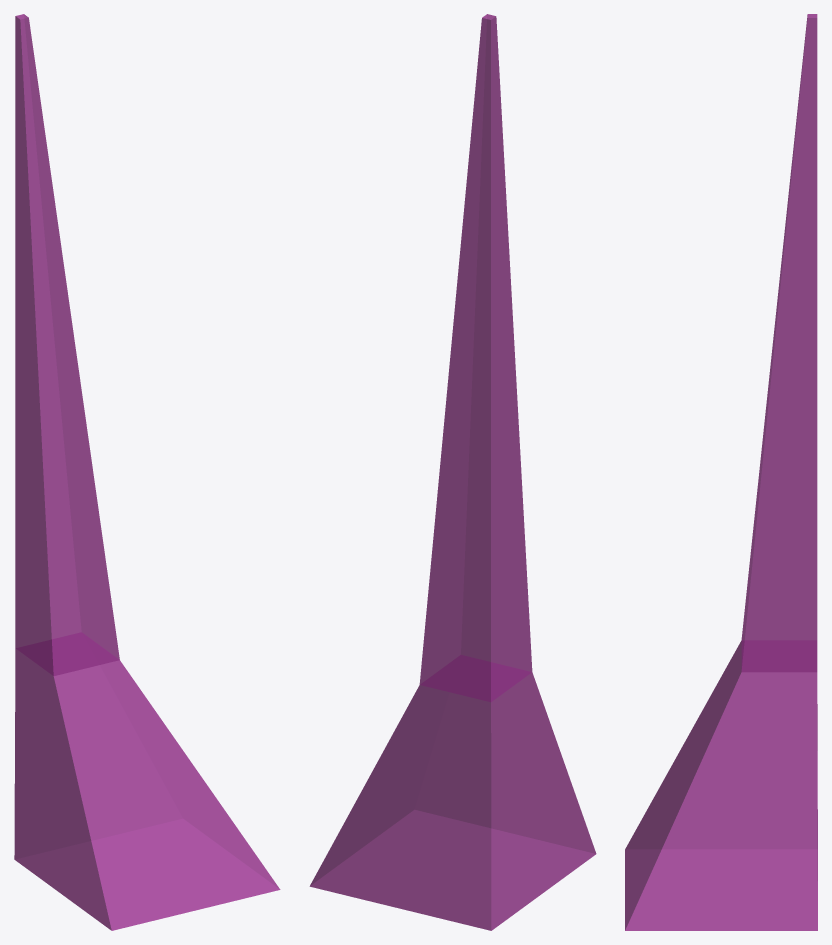
The model's file is SM_Bld_Wall_Fort_L_Corner_02_Collision.fbx.
3 views of the same model, side by side, from view 1: azimuth 30°, elevation 25°; view 2: azimuth 150°, elevation 25°; view 3: azimuth 270°, elevation 25° (orthographic). The views are drawn at different scales.
Visible parts, largest first — view 1: SM_Bld_Wall_Fort_L_Corner_02_Collision; view 2: SM_Bld_Wall_Fort_L_Corner_02_Collision; view 3: SM_Bld_Wall_Fort_L_Corner_02_Collision.
Boxes of the visible parts, x1,y1,x2,y2 form: SM_Bld_Wall_Fort_L_Corner_02_Collision: (14,14,280,930); SM_Bld_Wall_Fort_L_Corner_02_Collision: (309,14,596,930); SM_Bld_Wall_Fort_L_Corner_02_Collision: (625,14,817,930).
Bounding box in the file's own units: 503 × 2402 × 503.
